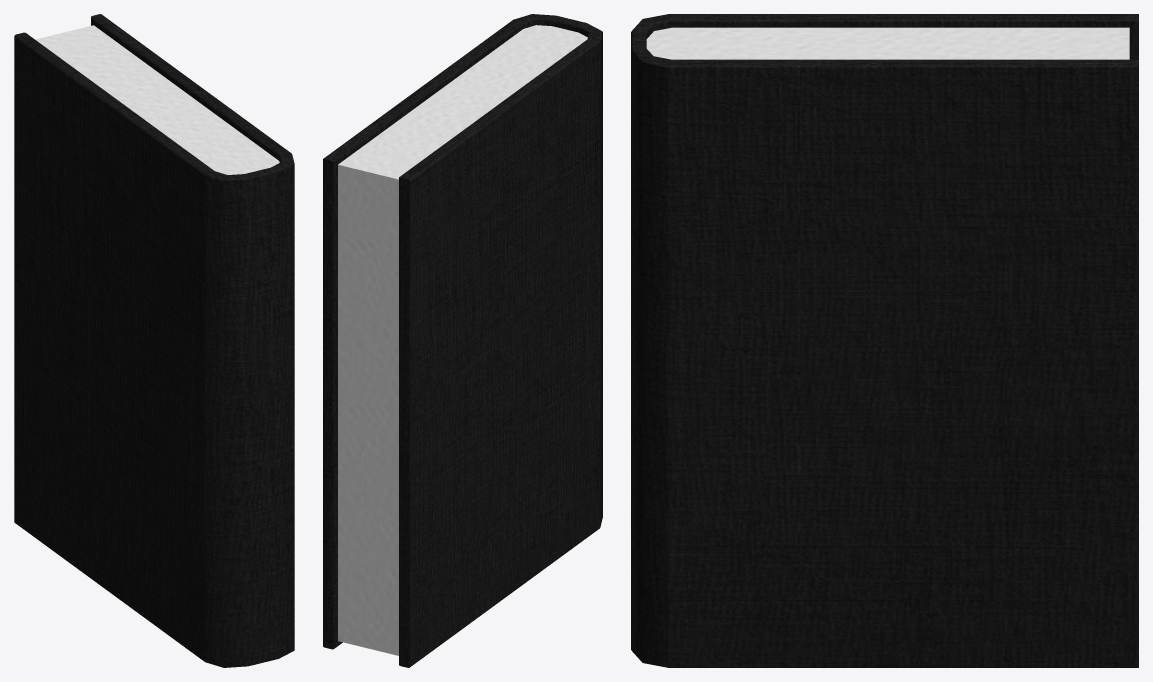
File: SM_book3.fbx
3 views of the same model, side by side, from view 1: azimuth 30°, elevation 25°; view 2: azimuth 150°, elevation 25°; view 3: azimuth 270°, elevation 25° (orthographic). The views are drawn at different scales.
Parts seen in each view (by area): view 1: book4; view 2: book4; view 3: book4.
Boxes of the visible parts, x1=… form: book4: x1=14, y1=14, x2=294, y2=667; book4: x1=323, y1=14, x2=602, y2=667; book4: x1=631, y1=14, x2=1138, y2=667.
Bounding box in the file's own units: 4.79 × 25.53 × 19.49.
